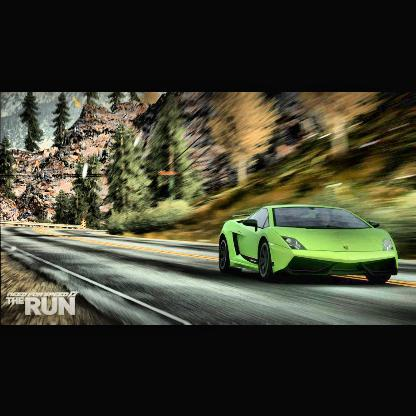Lamborghini Gallardo LP 570-4 Superleggera 2012: (218, 204, 400, 285)
